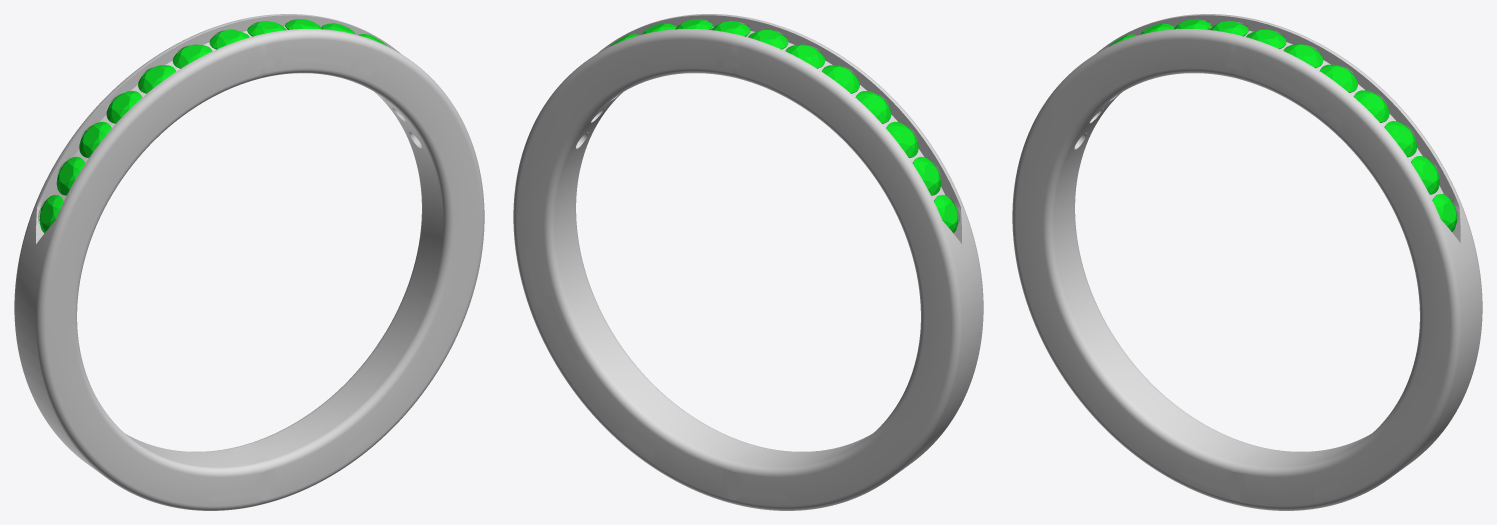
The model's file is Daniel Costa All Emerald.glb.
3 views of the same model, side by side, from view 1: azimuth 30°, elevation 25°; view 2: azimuth 150°, elevation 25°; view 3: azimuth 330°, elevation 25° (orthographic).
Visible parts, largest first — view 1: Costa PT for 3d model, Costa emerald for 3d model.011, Costa emerald for 3d model.012, Costa emerald for 3d model.010, Costa emerald for 3d model.009, Costa emerald for 3d model.013, Costa emerald for 3d model.008; view 2: Costa PT for 3d model, Costa emerald for 3d model.011, Costa emerald for 3d model.012, Costa emerald for 3d model.010, Costa emerald for 3d model.009, Costa emerald for 3d model.013, Costa emerald for 3d model.008; view 3: Costa PT for 3d model, Costa emerald for 3d model.002, Costa emerald for 3d model.001, Costa emerald for 3d model.003, Costa emerald for 3d model.004, Costa emerald for 3d model, Costa emerald for 3d model.005.
Boxes of the visible parts, left/top/right/bottom form: Costa PT for 3d model: left=14, top=14, right=484, bottom=510; Costa emerald for 3d model.011: left=79, top=121, right=111, bottom=157; Costa emerald for 3d model.012: left=56, top=156, right=85, bottom=195; Costa emerald for 3d model.010: left=106, top=91, right=142, bottom=123; Costa emerald for 3d model.009: left=138, top=65, right=175, bottom=93; Costa emerald for 3d model.013: left=39, top=195, right=63, bottom=233; Costa emerald for 3d model.008: left=172, top=44, right=212, bottom=68; Costa PT for 3d model: left=513, top=14, right=983, bottom=510; Costa emerald for 3d model.011: left=886, top=121, right=918, bottom=157; Costa emerald for 3d model.012: left=912, top=156, right=941, bottom=195; Costa emerald for 3d model.010: left=855, top=91, right=891, bottom=123; Costa emerald for 3d model.009: left=822, top=65, right=859, bottom=93; Costa emerald for 3d model.013: left=934, top=195, right=958, bottom=233; Costa emerald for 3d model.008: left=785, top=44, right=825, bottom=68; Costa PT for 3d model: left=1012, top=14, right=1482, bottom=510; Costa emerald for 3d model.002: left=1384, top=121, right=1416, bottom=157; Costa emerald for 3d model.001: left=1411, top=156, right=1439, bottom=194; Costa emerald for 3d model.003: left=1354, top=90, right=1389, bottom=122; Costa emerald for 3d model.004: left=1320, top=64, right=1357, bottom=92; Costa emerald for 3d model: left=1432, top=194, right=1457, bottom=232; Costa emerald for 3d model.005: left=1283, top=44, right=1323, bottom=68.
Bounding box in the file's own units: 20.1 × 20.11 × 2.2.
